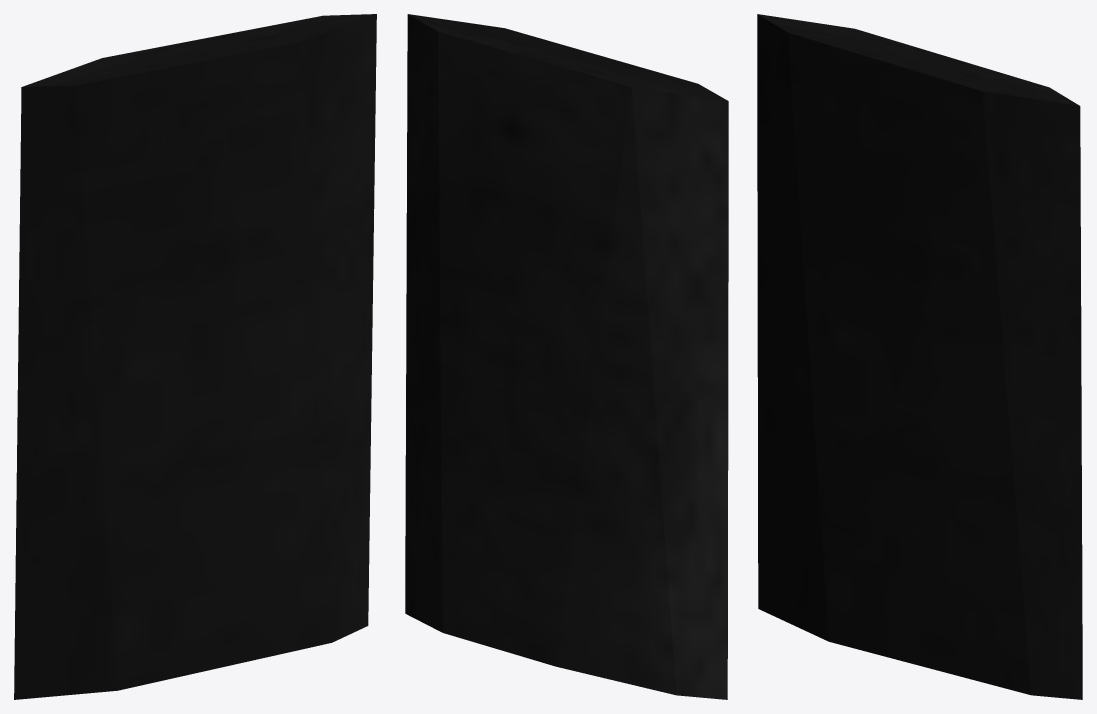
Rendered from Soporte.obj.
The picture shows the model from 3 angles, left to right: view 1: azimuth 30°, elevation 25°; view 2: azimuth 150°, elevation 25°; view 3: azimuth 330°, elevation 25°; orthographic projection. The views are drawn at different scales.
Parts seen in each view (by area): view 1: Cylinder; view 2: Cylinder; view 3: Cylinder.
Boxes of the visible parts, x1,y1,x2,y2 form: Cylinder: (14,14,376,699); Cylinder: (405,14,728,699); Cylinder: (757,14,1082,699).
Size of what is drawn, in the model's own units: 0.4765 by 0.8104 by 0.0812.
